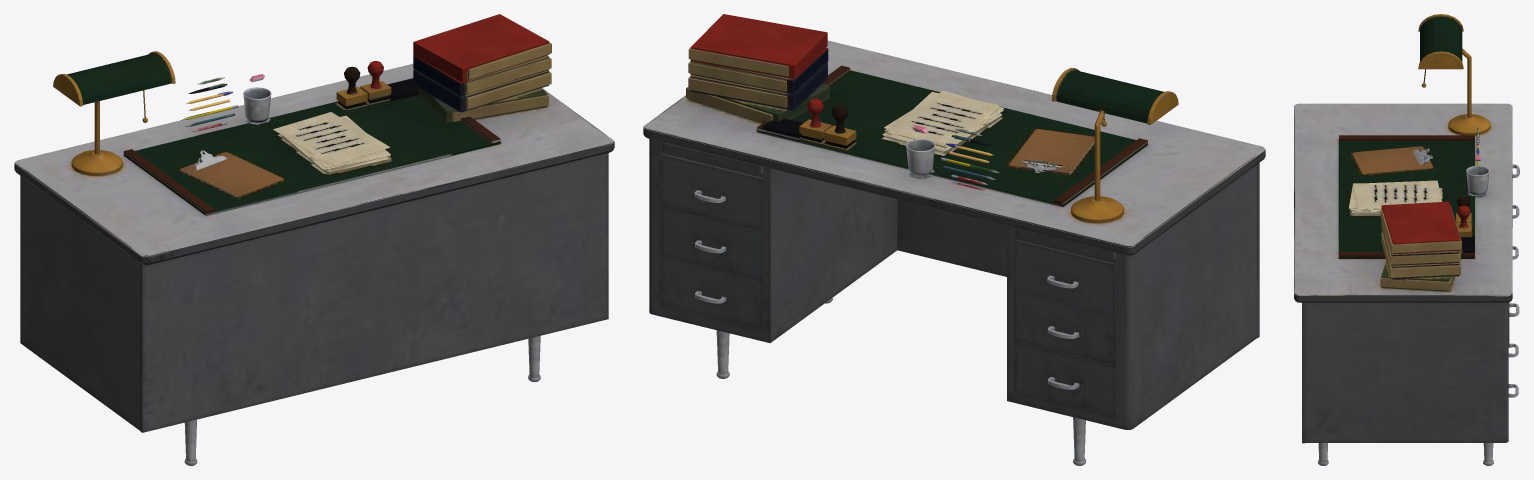
File: registrar_desk.glb
3 views of the same model, side by side, from view 1: azimuth 30°, elevation 25°; view 2: azimuth 150°, elevation 25°; view 3: azimuth 270°, elevation 25° (orthographic). The views are drawn at different scales.
Visible parts, largest first — view 1: registrar_desk; view 2: registrar_desk; view 3: registrar_desk.
Part boxes in pixels (left/top/right/bottom): registrar_desk: left=14, top=14, right=614, bottom=465; registrar_desk: left=643, top=14, right=1265, bottom=465; registrar_desk: left=1294, top=14, right=1519, bottom=465.
Bounding box in the file's own units: 1.6 × 1.12 × 0.7953.
Materials: 3 (3 with a texture image).
